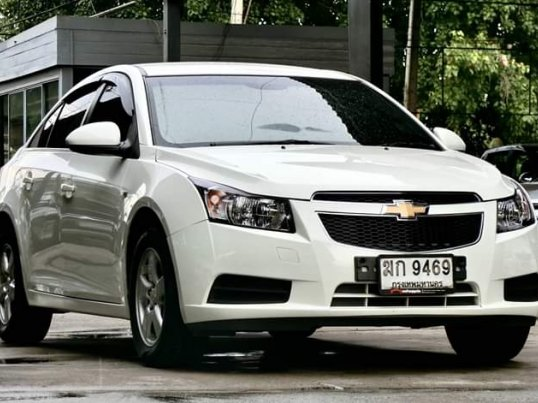sedan: (1, 62, 538, 362)
